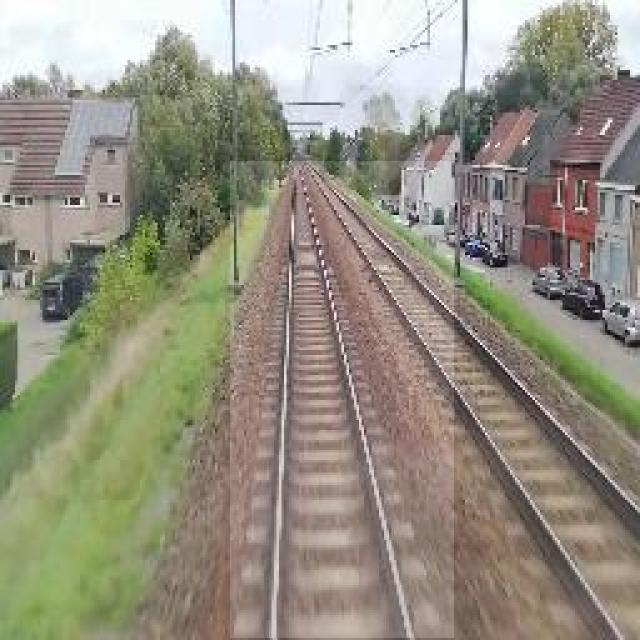rail: (232, 162, 455, 639)
